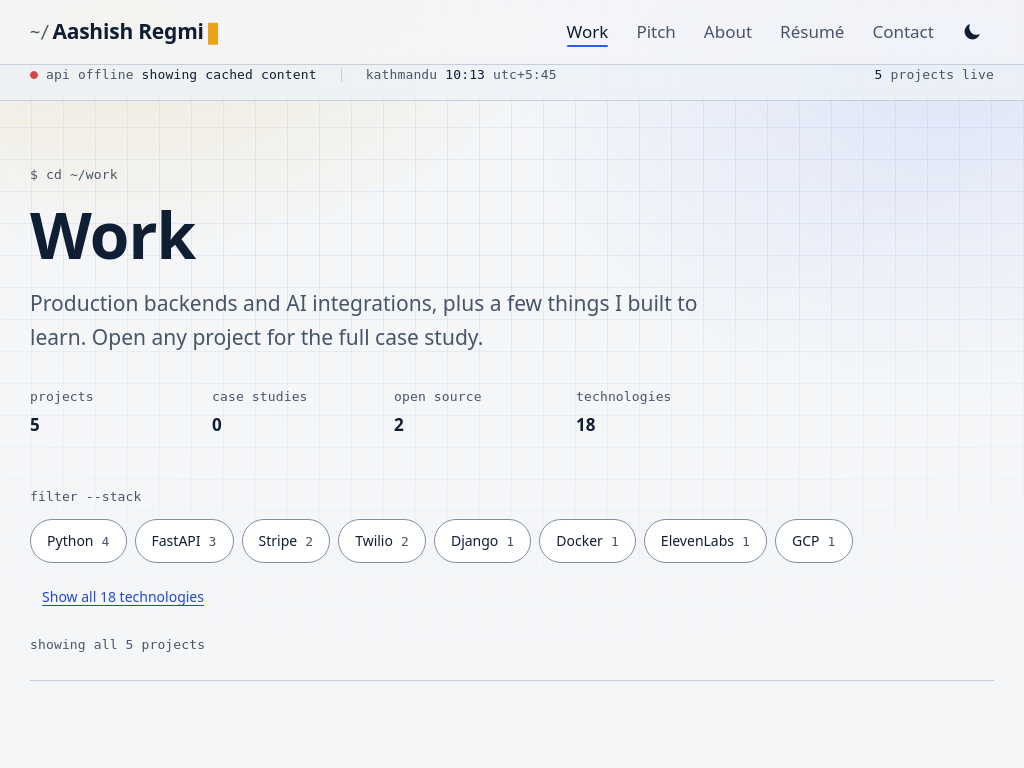
Test: /work filter overflow › shows the most-used technologies first and expands to all of them
Expected: the button "SpeechRecognition" is not shown
What coordinates should you click on to do the following:
click the button "Show all 18 technologies"
I would click on:
 (123, 597)
Its box is [30,575,216,619].
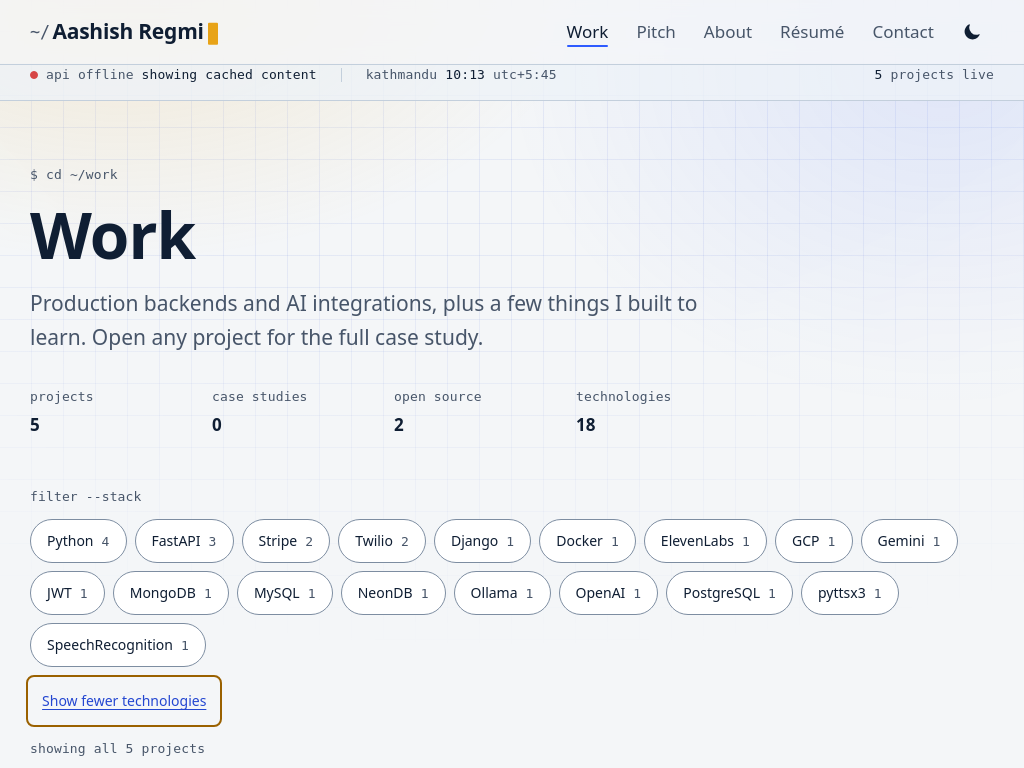
Now the button "Show fewer technologies" is expanded, box [30,679,218,723]
